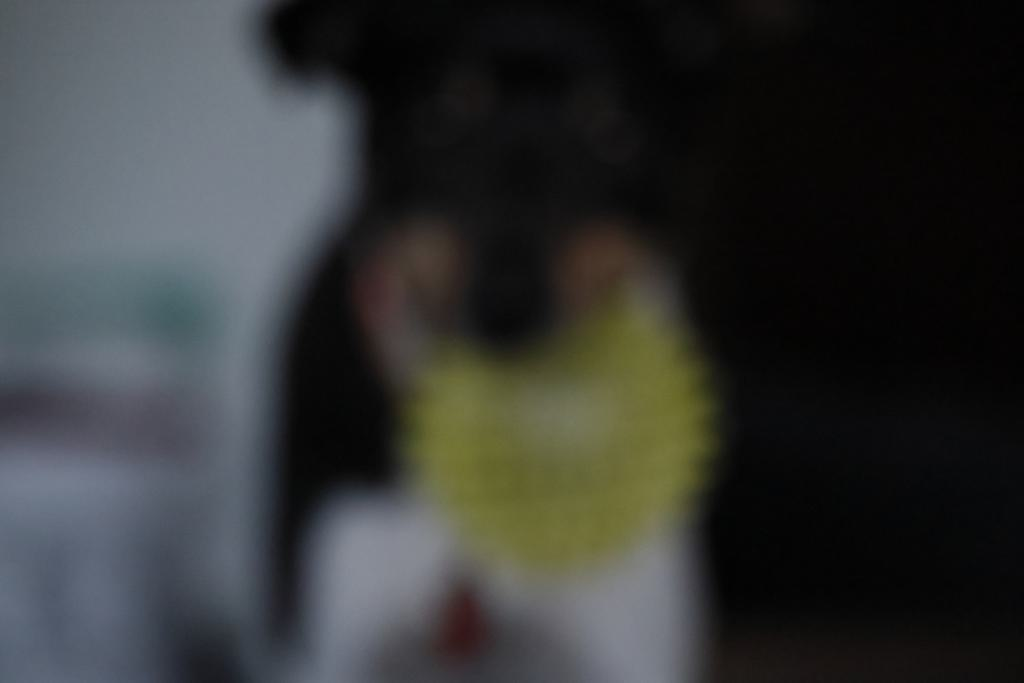Dog: (212, 0, 754, 683)
